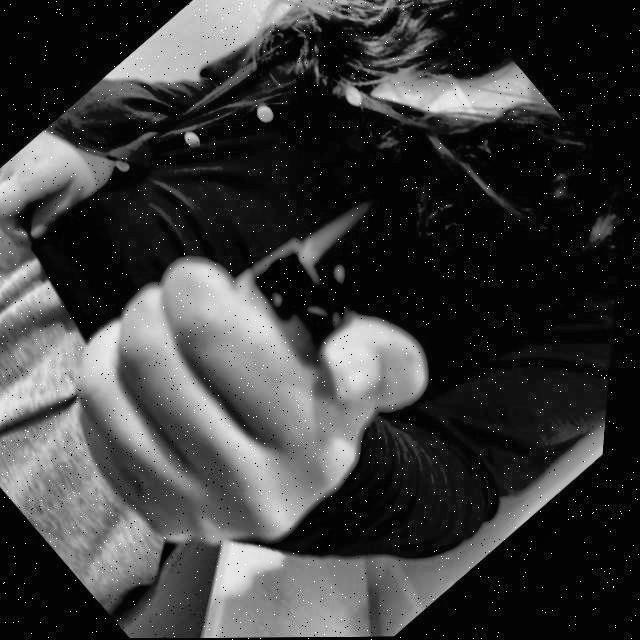Fire: (294, 182, 391, 270)
